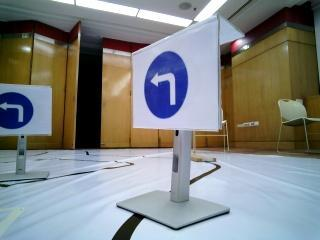left: (133, 48, 212, 121), (0, 83, 52, 135)
